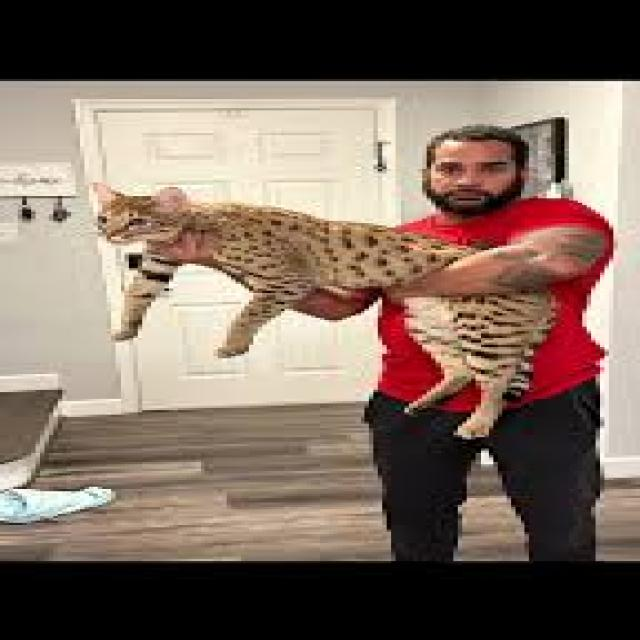Savannah: (79, 179, 558, 442)
